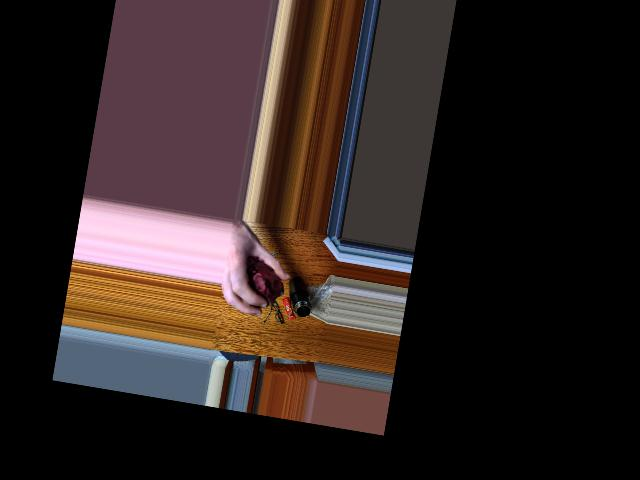onion: (237, 259, 284, 310)
